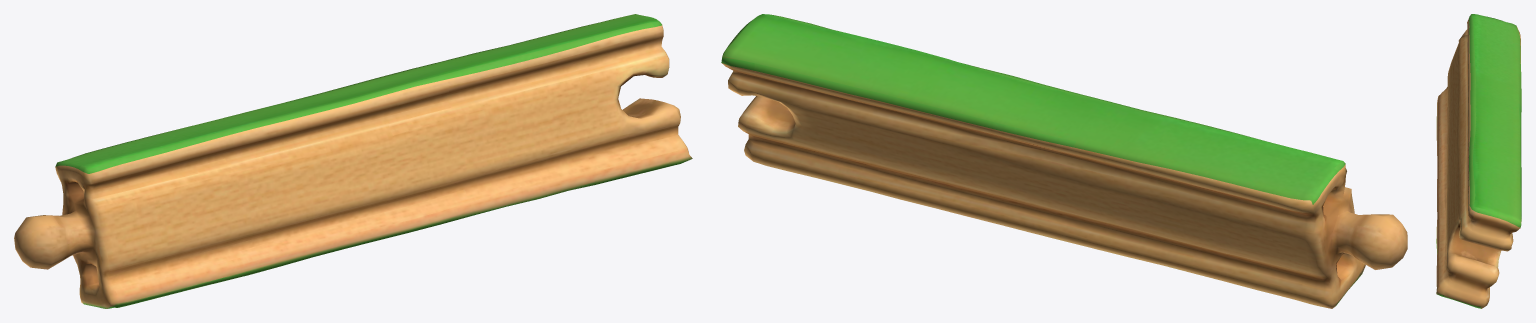
File: WoodTrail_GreenStraight.fbx
The picture shows the model from 3 angles, left to right: view 1: azimuth 30°, elevation 25°; view 2: azimuth 150°, elevation 25°; view 3: azimuth 270°, elevation 25°; orthographic projection. The views are drawn at different scales.
Parts seen in each view (by area): view 1: Trail_GreenStraight; view 2: Trail_GreenStraight; view 3: Trail_GreenStraight.
Part boxes in pixels (x1,y1,x2,y2): Trail_GreenStraight: (14, 14, 692, 308); Trail_GreenStraight: (721, 14, 1407, 308); Trail_GreenStraight: (1436, 14, 1521, 308).
Bounding box in the file's own units: 45.62 × 9.97 × 7.35.
Materials: 1 (1 with a texture image).
